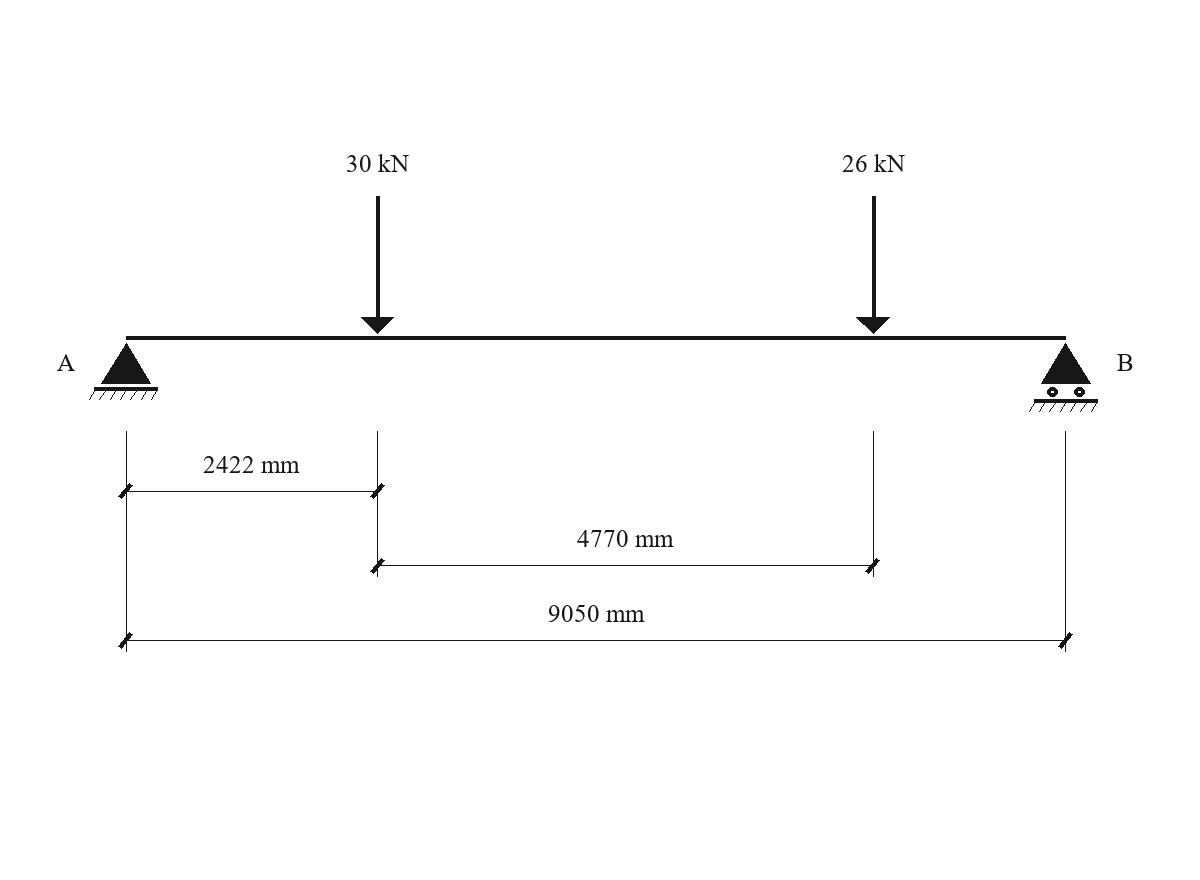pin_support: (89, 343, 158, 400)
point_load: (856, 196, 890, 334), (361, 196, 394, 334)
roller_support: (1029, 343, 1098, 412)
